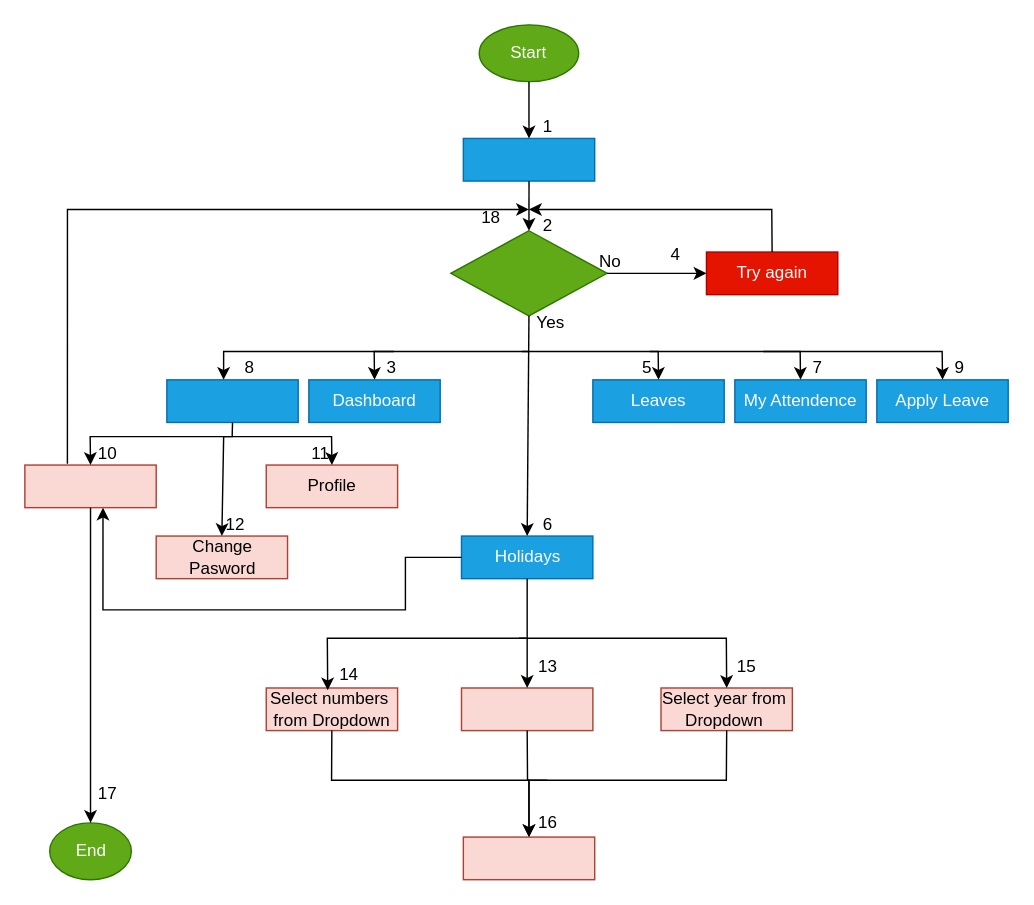
The diagram is 1034 pixels wide and 905 high, and some of its shapes have lost their labels. Here are the shapes that lost their labels. From the top down, the box of each, then its label:
(462, 137, 595, 181): User
(449, 229, 607, 316): Login with Valid Data
(165, 378, 298, 422): Profile Dropdown
(23, 464, 156, 508): Logout
(460, 687, 593, 731): Search Holidays by name
(462, 836, 595, 880): Filtered holidays are displayed
